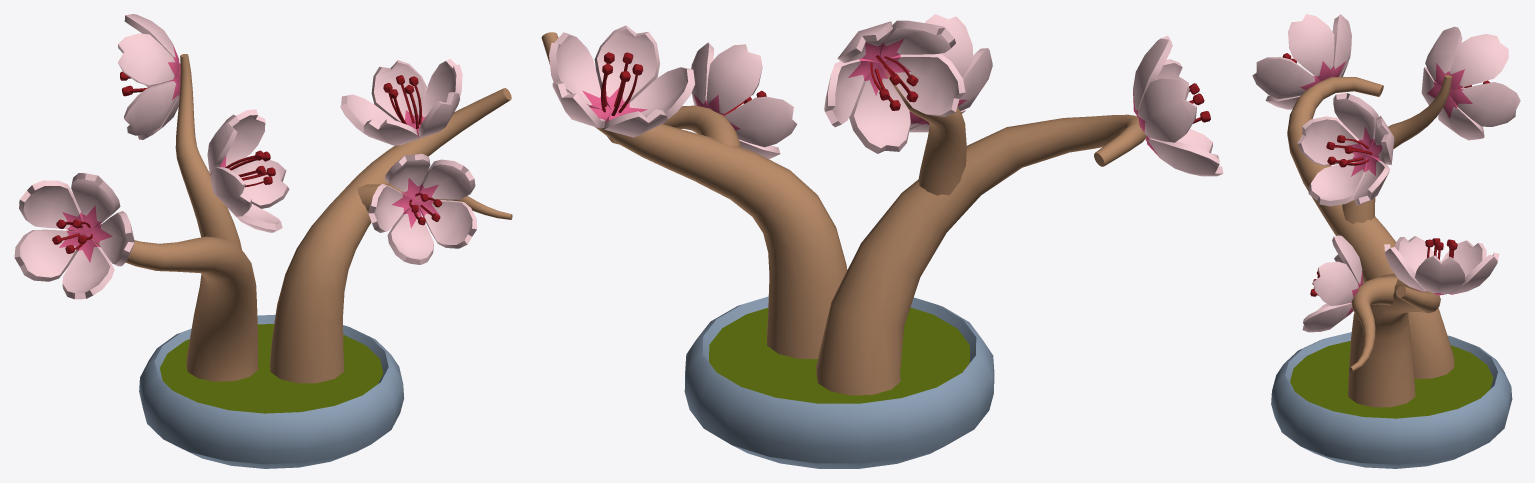
Rendered from Decoration Sakura Tree.glb.
The picture shows the model from 3 angles, left to right: view 1: azimuth 30°, elevation 25°; view 2: azimuth 150°, elevation 25°; view 3: azimuth 270°, elevation 25°; orthographic projection. The views are drawn at different scales.
Visible parts, largest first — view 1: Decoration_SakuraTree; view 2: Decoration_SakuraTree; view 3: Decoration_SakuraTree.
Boxes of the visible parts, <box> form: Decoration_SakuraTree: <box>14,14,512,468</box>; Decoration_SakuraTree: <box>541,14,1223,468</box>; Decoration_SakuraTree: <box>1252,14,1520,468</box>.
Size of the model in its own units: 4.72 by 3.39 by 2.25.
1 material, 1 textured.
